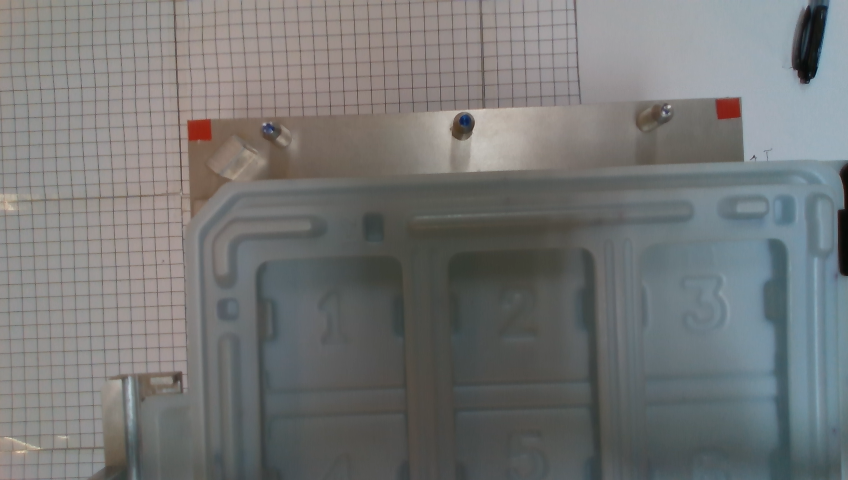red: (188, 120, 212, 141), (717, 98, 740, 119)
